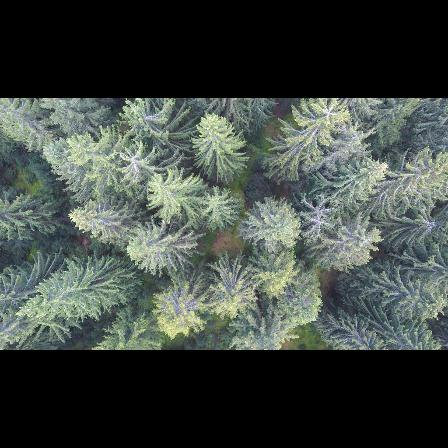Sick: (297, 193, 340, 234)
